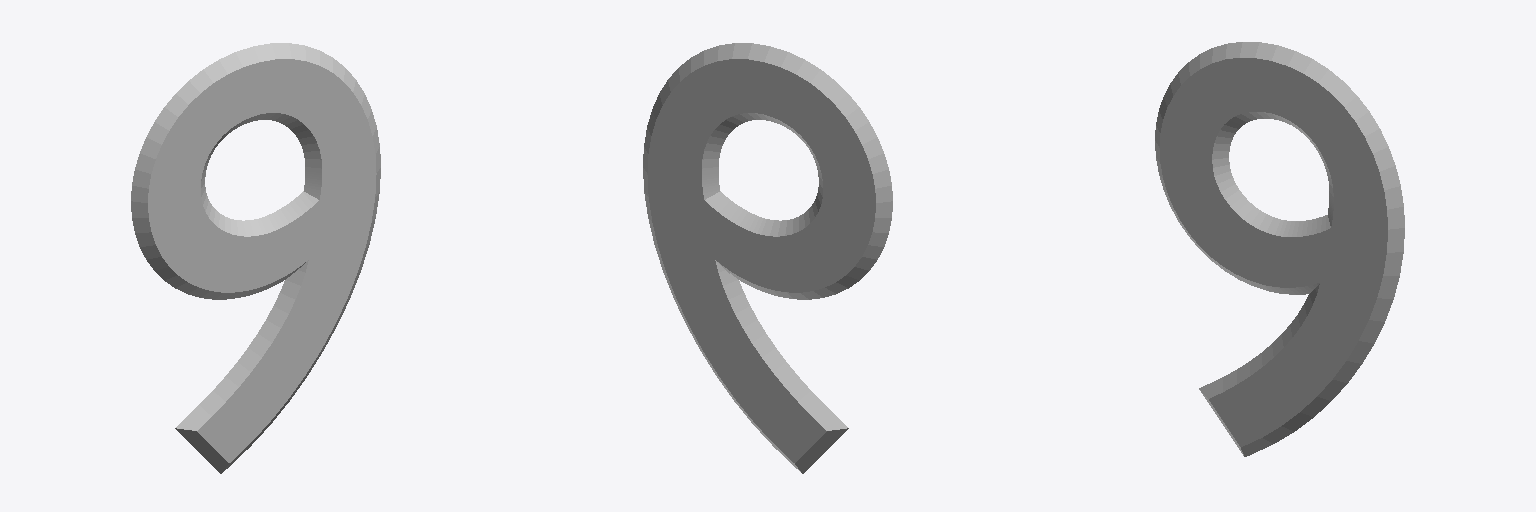
The model's file is nine.obj.
3 renders of one model, left to right at view 1: azimuth 30°, elevation 25°; view 2: azimuth 150°, elevation 25°; view 3: azimuth 330°, elevation 25°, orthographic.
Visible parts, largest first — view 1: Text; view 2: Text; view 3: Text.
Boxes of the visible parts, <box> form: Text: <box>131,43,380,473</box>; Text: <box>643,43,892,473</box>; Text: <box>1155,42,1404,456</box>.
Size of the model in its own units: 0.4651 by 0.7467 by 0.04.